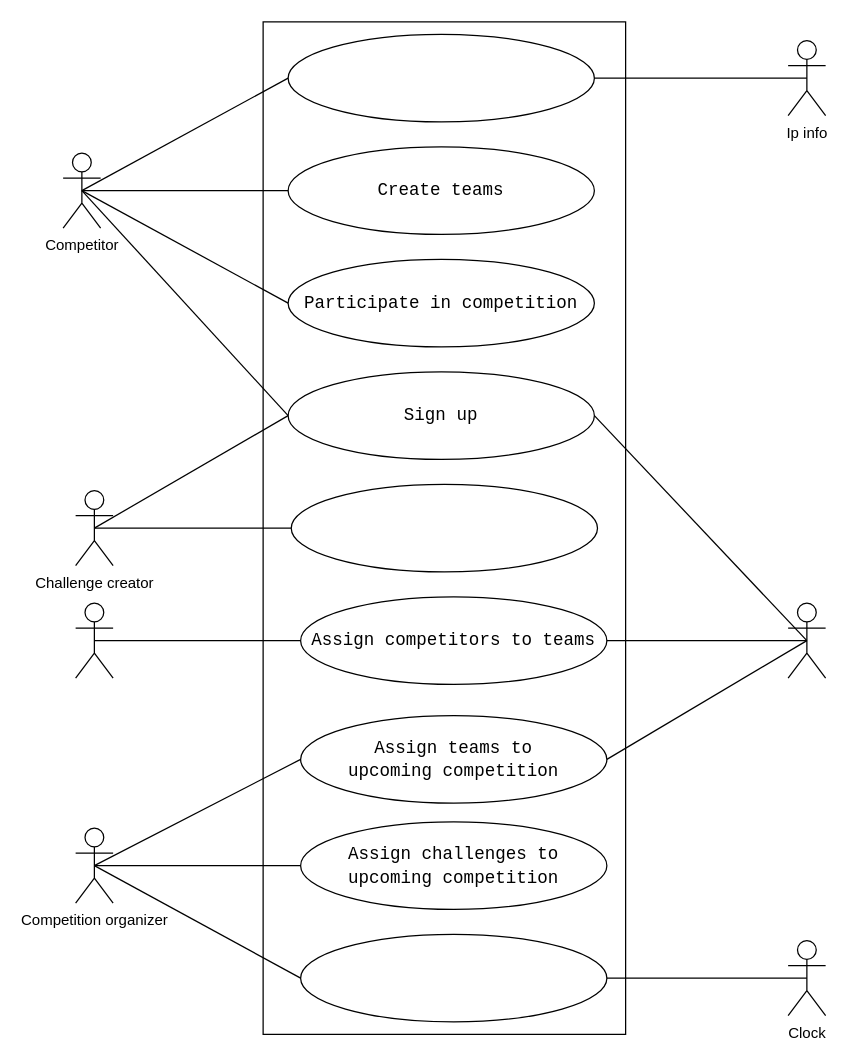
Some shapes in this 850 by 1064 pixel diagram are drawn without their labels. The centre of each missing label's shape, as x and y in pixels:
Analyse ip info: pixel 440 77
Create challenges: pixel 444 527
Create upcoming competition: pixel 453 977
Mailpit: pixel 806 640
Team leader: pixel 93 640
